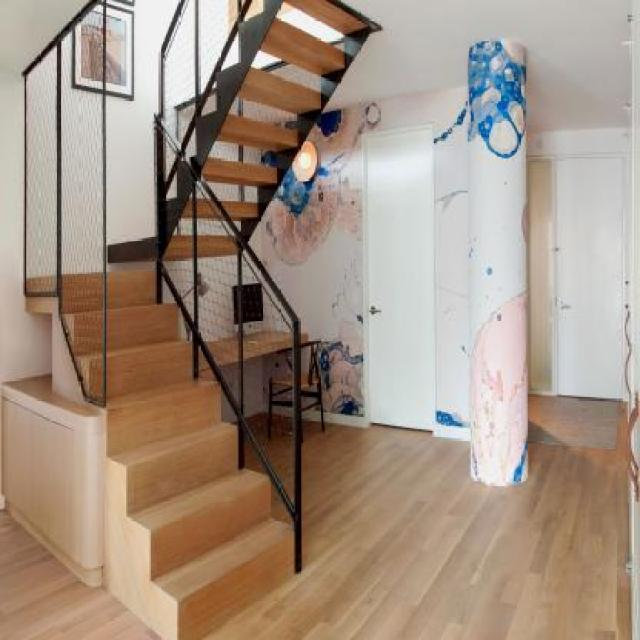stair: (1, 224, 297, 638), (138, 6, 368, 225)
